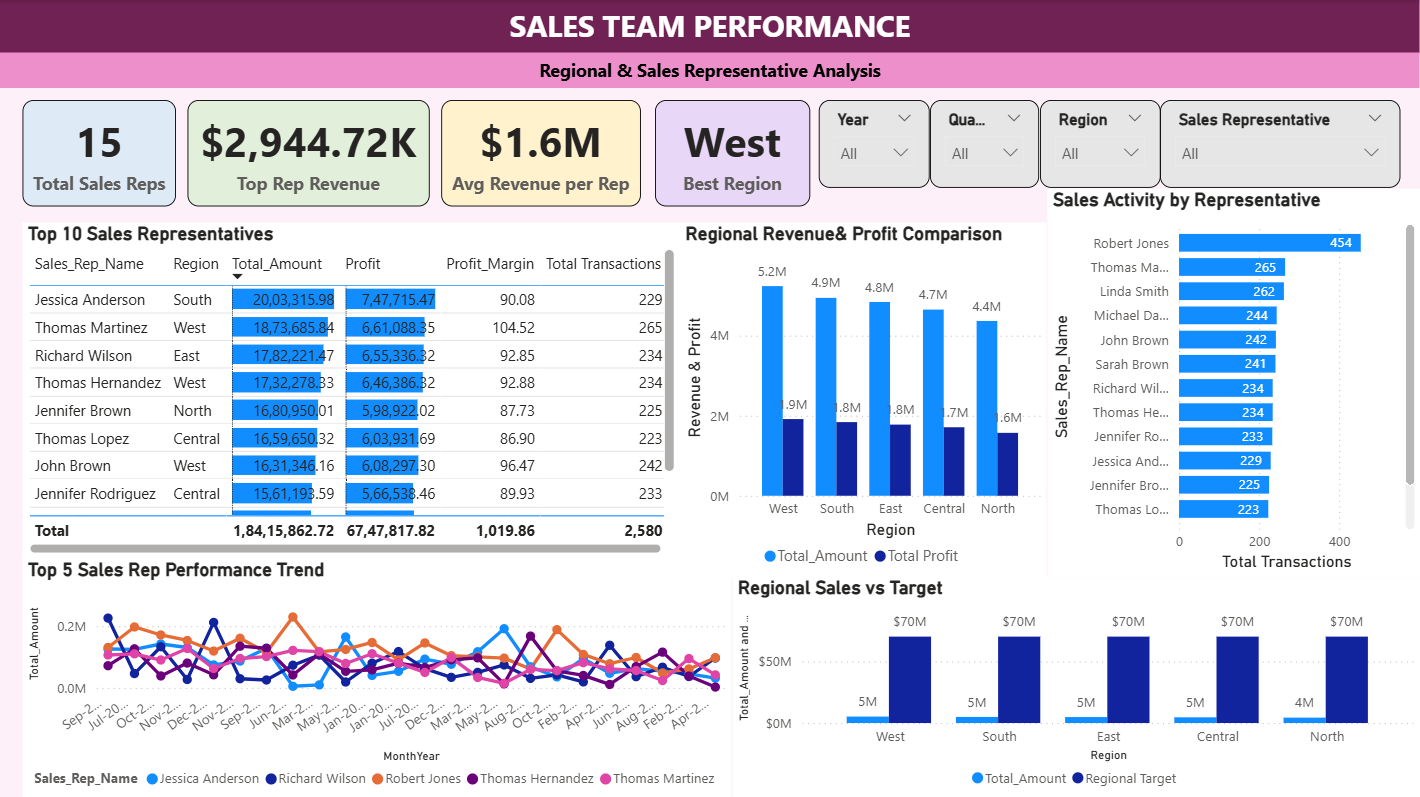

Layout of this report page (visuals, bound fields, positions):
{"tool":"powerbi","page":{"name":"Sales Performance","canvas":[1280,720],"ordinal":2},"visuals":[{"type":"textbox","box":[0,0,1280.3,47.7],"z":0},{"type":"textbox","box":[0,47.7,1280.3,31.8],"z":1000},{"type":"card","fields":{"Values":["_Measure.Total Sales Reps"]},"box":[20.6,90.6,138.6,96.1],"z":2000},{"type":"slicer","fields":{"Values":["DateTable.Year"]},"box":[738.3,90.6,100.2,79.6],"z":2000,"group":"g1"},{"type":"card","fields":{"Values":["_Measure.Top Rep Revenue"]},"box":[168.8,90.6,218.2,96.1],"z":3000},{"type":"slicer","fields":{"Values":["DateTable.Quarter"]},"box":[838.5,90.6,98.8,79.6],"z":3000,"group":"g1"},{"type":"card","fields":{"Values":["_Measure.Avg Revenue per Rep"]},"box":[397.9,90.6,179.8,96.1],"z":4000},{"type":"slicer","fields":{"Values":["Regional_Targets.Region"]},"box":[937.3,90.6,108.4,79.6],"z":4000,"group":"g1"},{"type":"card","fields":{"Values":["_Measure.Best Region"]},"box":[590.1,90.6,140,96.1],"z":5000},{"type":"slicer","fields":{"Values":["Sales_Transactions.Sales_Rep_Name"]},"box":[1045.7,90.6,216.8,79.6],"z":5000,"group":"g1"},{"type":"clusteredColumnChart","title":"Regional Revenue& Profit Comparison","fields":{"Category":["Sales_Transactions.Region"],"Y":["Sum(Sales_Transactions.Total_Amount)","Sum(Sales_Transactions.Profit)"]},"box":[613.4,200.3,330.7,319.7],"z":6000},{"type":"tableEx","title":"Top 10 Sales Representatives","fields":{"Values":["Sales_Transactions.Sales_Rep_Name","Sales_Transactions.Region","Sum(Sales_Transactions.Total_Amount)","Sum(Sales_Transactions.Profit)","Sum(Sales_Transactions.Profit_Margin)","_Measure.Total Transactions"]},"box":[20.6,200.3,592.8,303.3],"z":7000},{"type":"lineChart","title":"Top 5 Sales Rep Performance Trend","fields":{"Category":["DateTable.MonthYear"],"Y":["Sum(Sales_Transactions.Total_Amount)"],"Series":["Sales_Transactions.Sales_Rep_Name"]},"box":[20.6,503.6,639.5,216.8],"z":8000},{"type":"group","id":"g1","title":"Group 1","box":[738.3,90.6,524.2,79.6],"z":9000},{"type":"clusteredColumnChart","title":"Regional Sales vs Target","fields":{"Category":["Sales_Transactions.Region"],"Y":["Sum(Sales_Transactions.Total_Amount)","_Measure.Regional Target"]},"box":[660,520.1,620.2,200.3],"z":10000},{"type":"clusteredBarChart","title":"Sales Activity by Representative","fields":{"Y":["_Measure.Total Transactions"],"Category":["Sales_Transactions.Sales_Rep_Name"]},"box":[944.1,170.2,336.2,349.9],"z":11000}]}

Visuals, with their boxes in screenshot pixels (x1, y1, x2, y2), scaled from the page's 1280x720 canvas onto the 1420x797 screenshot:
textbox: (0,0,1419,53)
textbox: (0,53,1419,88)
card - _Measure.Total Sales Reps: (23,100,177,207)
slicer - DateTable.Year: (819,100,930,188)
card - _Measure.Top Rep Revenue: (187,100,429,207)
slicer - DateTable.Quarter: (930,100,1040,188)
card - _Measure.Avg Revenue per Rep: (441,100,641,207)
slicer - Regional_Targets.Region: (1040,100,1160,188)
card - _Measure.Best Region: (655,100,810,207)
slicer - Sales_Transactions.Sales_Rep_Name: (1160,100,1401,188)
"Regional Revenue& Profit Comparison" clusteredColumnChart: (680,222,1047,576)
"Top 10 Sales Representatives" tableEx: (23,222,680,557)
"Top 5 Sales Rep Performance Trend" lineChart: (23,557,732,796)
"Group 1" group: (819,100,1401,188)
"Regional Sales vs Target" clusteredColumnChart: (732,576,1419,796)
"Sales Activity by Representative" clusteredBarChart: (1047,188,1419,576)
